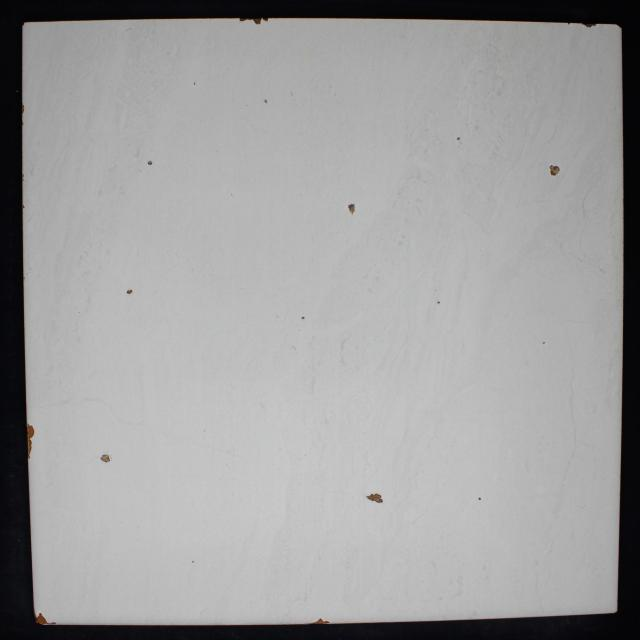edge-chipping: (26, 422, 35, 438), (27, 439, 33, 460), (34, 612, 46, 622), (582, 23, 597, 28), (34, 622, 56, 625), (253, 18, 262, 24), (239, 18, 252, 22), (316, 618, 323, 624), (22, 102, 25, 114), (616, 24, 622, 29), (308, 622, 316, 625), (262, 18, 268, 22), (324, 621, 330, 624), (22, 173, 24, 181), (22, 22, 25, 26), (22, 120, 24, 126), (567, 22, 571, 24)
hole: (366, 492, 384, 504), (549, 164, 560, 177), (100, 454, 111, 463), (348, 203, 355, 215), (126, 290, 133, 294), (301, 316, 305, 320), (148, 161, 152, 165), (456, 137, 461, 140), (542, 341, 546, 344), (264, 99, 267, 103), (437, 301, 440, 304), (479, 497, 481, 500)
